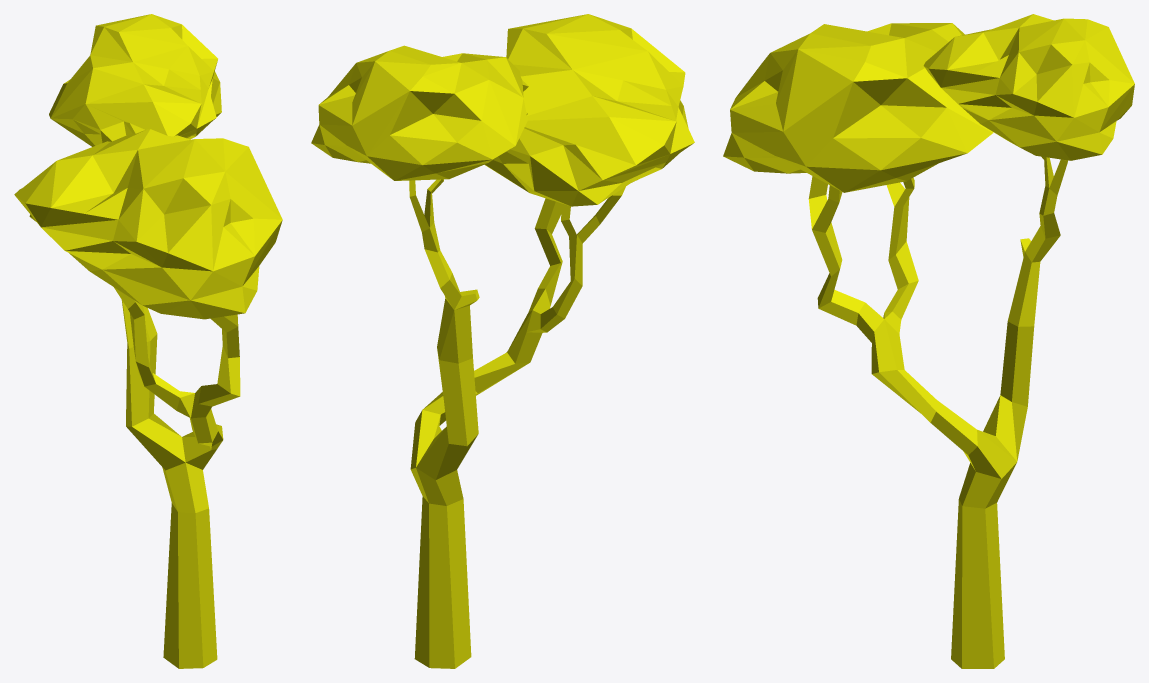
File: cty_tree1.glb
3 views of the same model, side by side, from view 1: azimuth 30°, elevation 25°; view 2: azimuth 150°, elevation 25°; view 3: azimuth 270°, elevation 25° (orthographic). The views are drawn at different scales.
Visible parts, largest first — view 1: SM_Env_Tree_01; view 2: SM_Env_Tree_01; view 3: SM_Env_Tree_01.
Boxes of the visible parts, left/top/right/bottom form: SM_Env_Tree_01: left=14, top=14, right=282, bottom=668; SM_Env_Tree_01: left=311, top=14, right=694, bottom=668; SM_Env_Tree_01: left=723, top=14, right=1134, bottom=668.
Bounding box in the file's own units: 0.0187 × 0.0421 × 0.0251.
Materials: 1 (1 with a texture image).
